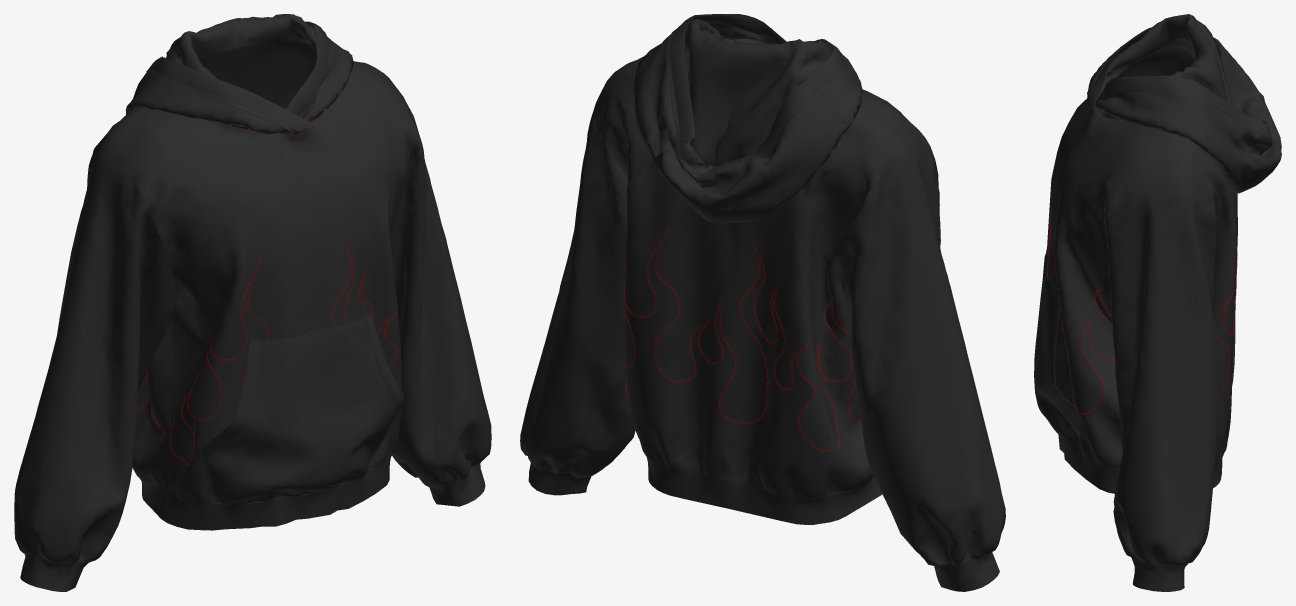
The model's file is hoodie.glb.
3 renders of one model, left to right at view 1: azimuth 30°, elevation 25°; view 2: azimuth 150°, elevation 25°; view 3: azimuth 270°, elevation 25°, orthographic. The views are drawn at different scales.
Parts seen in each view (by area): view 1: hoodie_Rib_2X2_468gsm_hoodie_end_0, hoodie_stitches_0; view 2: hoodie_Rib_2X2_468gsm_hoodie_end_0, hoodie_stitches_0; view 3: hoodie_Rib_2X2_468gsm_hoodie_end_0, hoodie_stitches_0.
Boxes of the visible parts, left/top/right/bottom form: hoodie_Rib_2X2_468gsm_hoodie_end_0: left=14, top=14, right=491, bottom=591; hoodie_stitches_0: left=138, top=109, right=397, bottom=465; hoodie_Rib_2X2_468gsm_hoodie_end_0: left=520, top=14, right=1005, bottom=591; hoodie_stitches_0: left=624, top=226, right=861, bottom=451; hoodie_Rib_2X2_468gsm_hoodie_end_0: left=1034, top=14, right=1281, bottom=591; hoodie_stitches_0: left=1047, top=108, right=1237, bottom=414.
Size of the model in its own units: 0.6047 by 0.6407 by 0.3096.
Materials: 2 (1 with a texture image).
